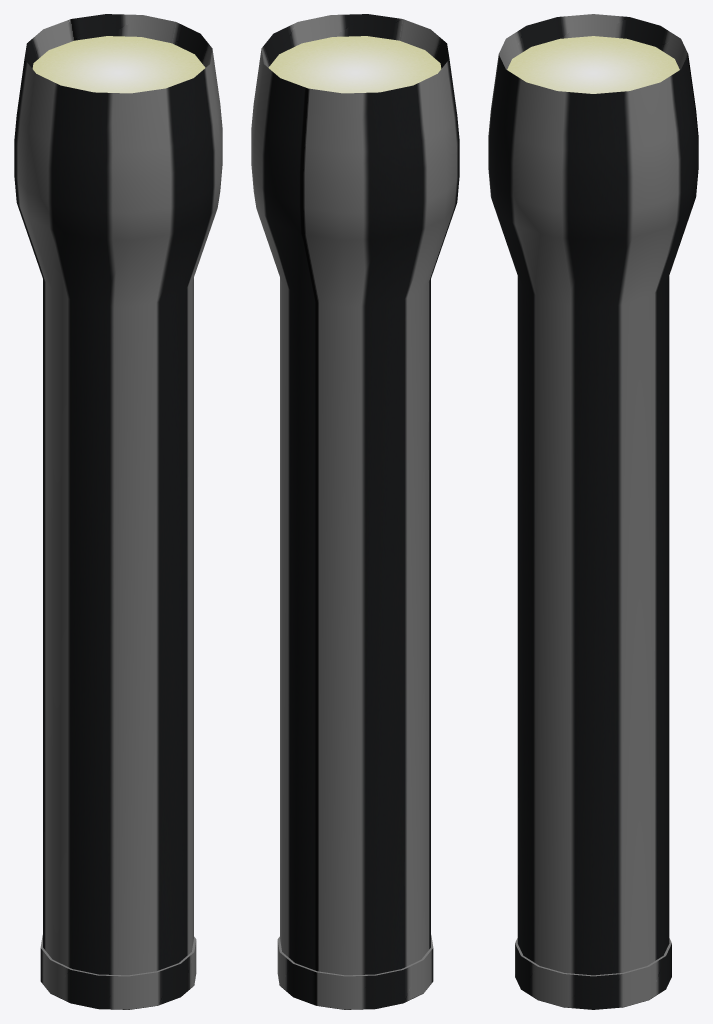
The model's file is Flashlight.fbx.
3 views of the same model, side by side, from view 1: azimuth 30°, elevation 25°; view 2: azimuth 150°, elevation 25°; view 3: azimuth 270°, elevation 25° (orthographic).
Visible parts, largest first — view 1: pCylinder1; view 2: pCylinder1; view 3: pCylinder1.
Part boxes in pixels (x1=…): pCylinder1: x1=14, y1=14, x2=222, y2=1009; pCylinder1: x1=251, y1=14, x2=459, y2=1009; pCylinder1: x1=488, y1=14, x2=698, y2=1009.
Bounding box in the file's own units: 2.77 × 13.41 × 2.77.
2 materials, 2 textured.
